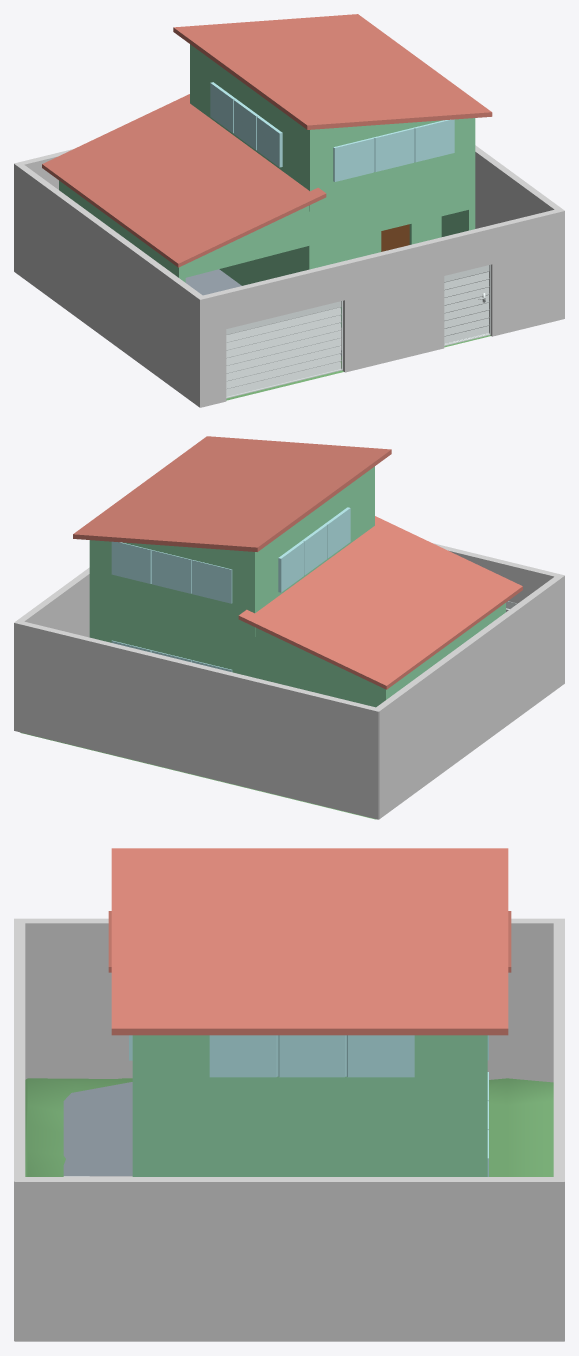
File: casamoderna.fbx
3 renders of one model, top to bottom at view 1: azimuth 30°, elevation 25°; view 2: azimuth 150°, elevation 25°; view 3: azimuth 270°, elevation 25°, orthographic. The views are drawn at different scales.
Visible parts, largest first — view 1: Plane.021; view 2: Plane.021; view 3: Plane.021.
Part boxes in pixels (bbox=[...]): Plane.021: bbox=[14, 14, 564, 407]; Plane.021: bbox=[14, 436, 564, 819]; Plane.021: bbox=[14, 848, 564, 1341].
Size of the model in its own units: 1086 by 653 by 960.
